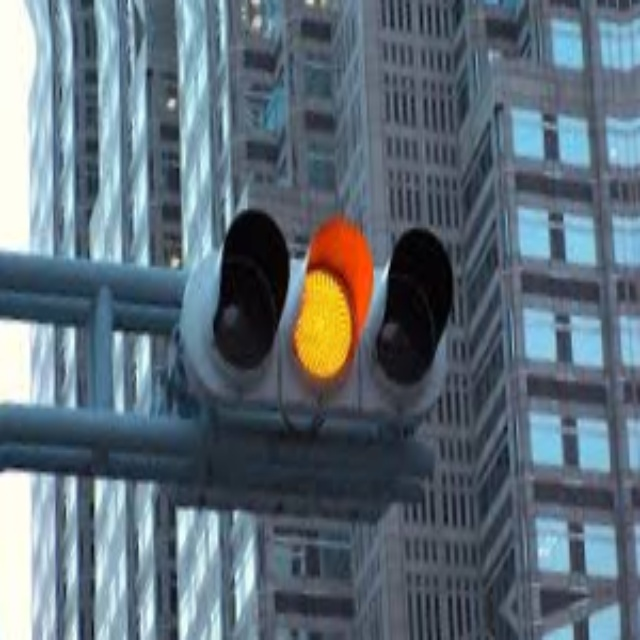yellow_light: (287, 252, 356, 385)
